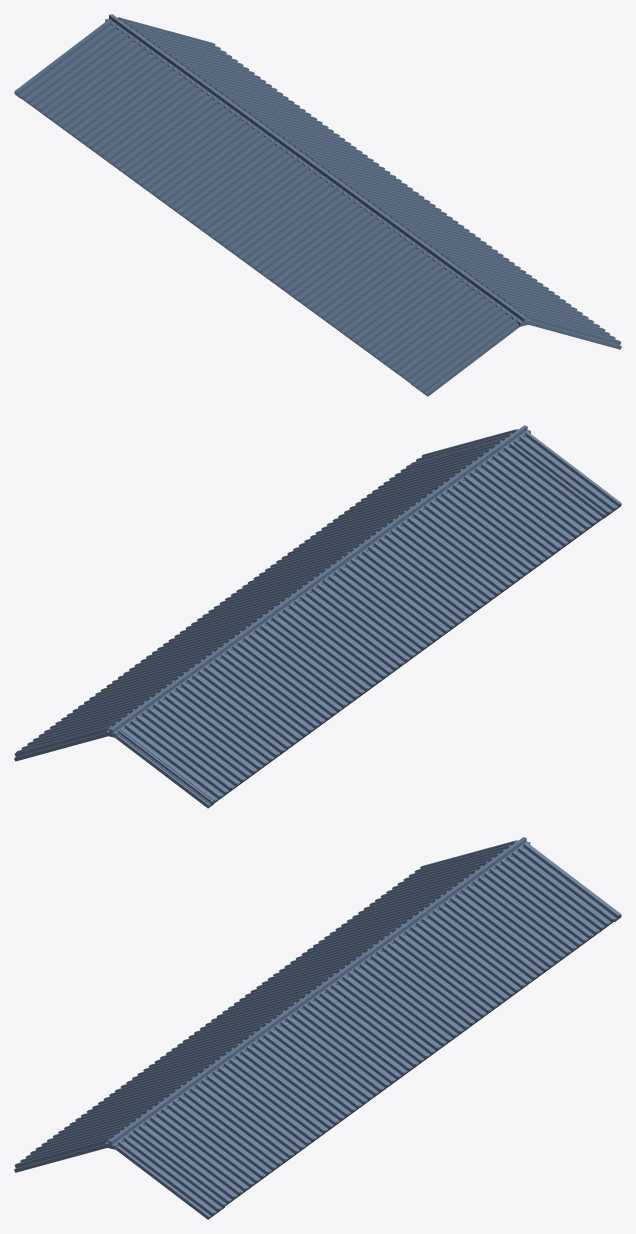
Rendered from Trapiche-2.070.fbx.
The picture shows the model from 3 angles, top to bottom: view 1: azimuth 30°, elevation 25°; view 2: azimuth 150°, elevation 25°; view 3: azimuth 330°, elevation 25°; orthographic projection.
Parts seen in each view (by area): view 1: Trapiche-2.001; view 2: Trapiche-2.001; view 3: Trapiche-2.001.
Boxes of the visible parts, bbox=[...] form: Trapiche-2.001: bbox=[14, 14, 621, 396]; Trapiche-2.001: bbox=[14, 425, 621, 808]; Trapiche-2.001: bbox=[14, 837, 621, 1219].
Size of the model in its own units: 6.07 by 1.65 by 22.02.
1 material, 1 textured.
